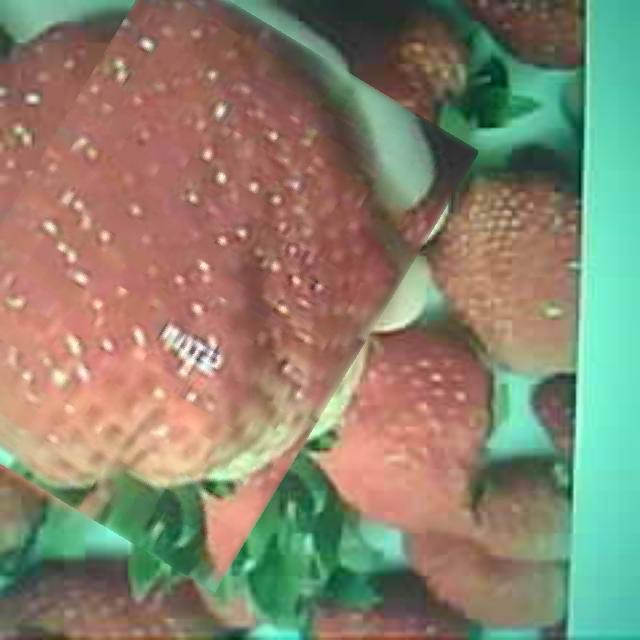strawberry: (0, 0, 425, 564)
